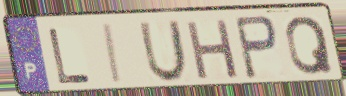H: (183, 17, 241, 82)
I: (102, 22, 125, 86)
L: (45, 27, 94, 86)
P: (232, 13, 281, 82)
Q: (284, 14, 336, 77)
U: (137, 18, 189, 84)
